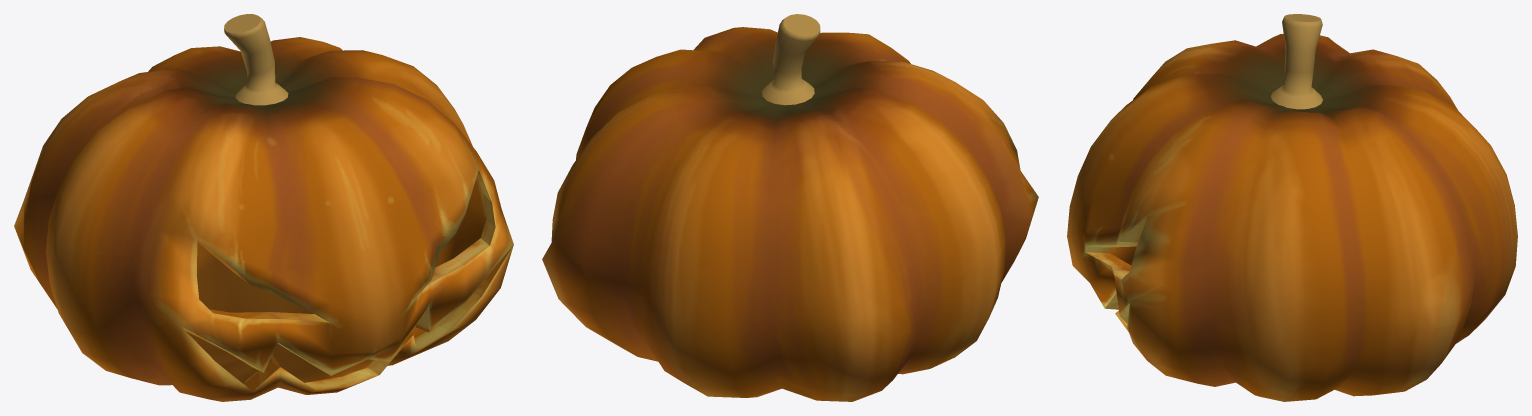
The model's file is bobora.fbx.
3 renders of one model, left to right at view 1: azimuth 30°, elevation 25°; view 2: azimuth 150°, elevation 25°; view 3: azimuth 270°, elevation 25°, orthographic. The views are drawn at different scales.
Visible parts, largest first — view 1: Sphere, Circle; view 2: Sphere, Circle; view 3: Sphere, Circle.
Boxes of the visible parts, <box> form: Sphere: <box>14,37,513,401</box>; Circle: <box>224,14,288,105</box>; Sphere: <box>542,27,1038,401</box>; Circle: <box>762,14,820,105</box>; Sphere: <box>1067,33,1517,401</box>; Circle: <box>1270,14,1322,109</box>.
Bounding box in the file's own units: 212 × 169 × 204.
